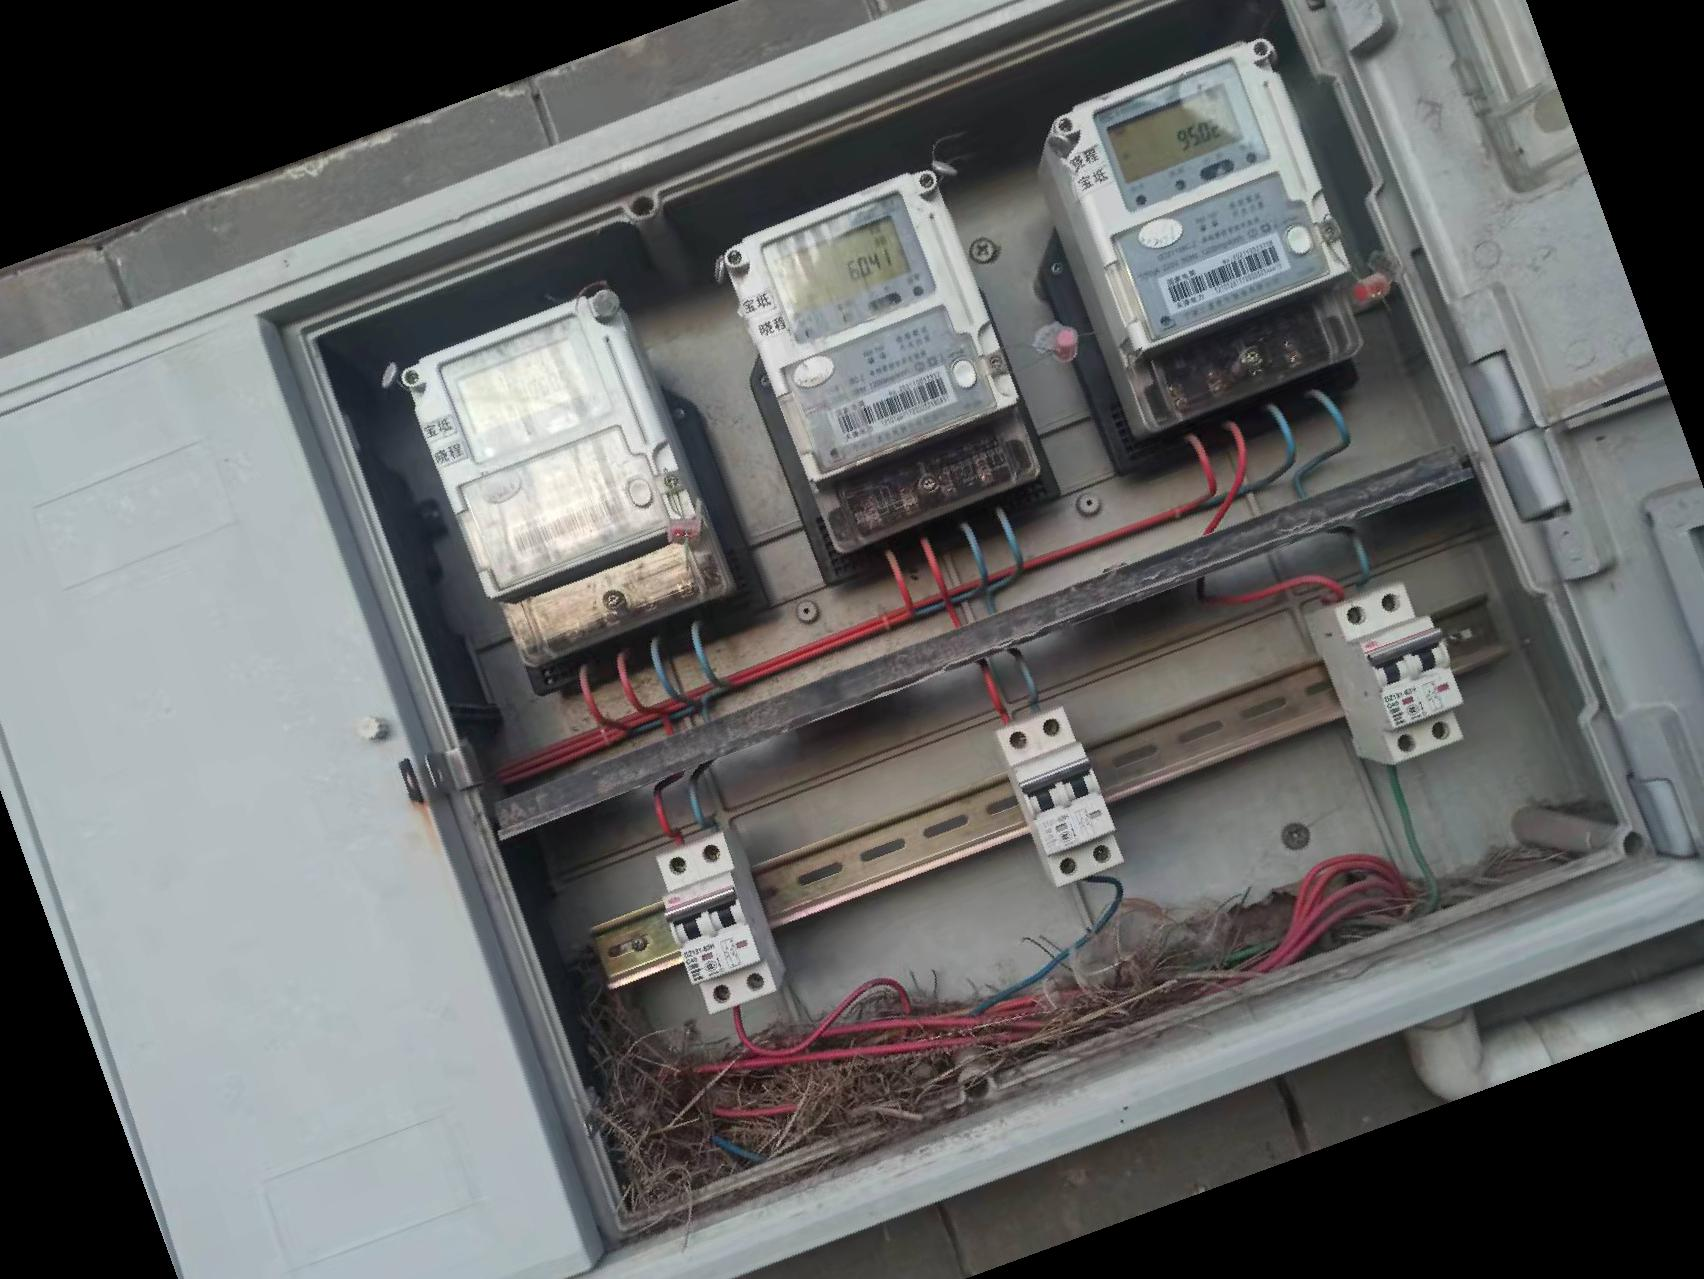digital: (1062, 43, 1345, 357), (406, 292, 692, 595), (729, 173, 1011, 481)
